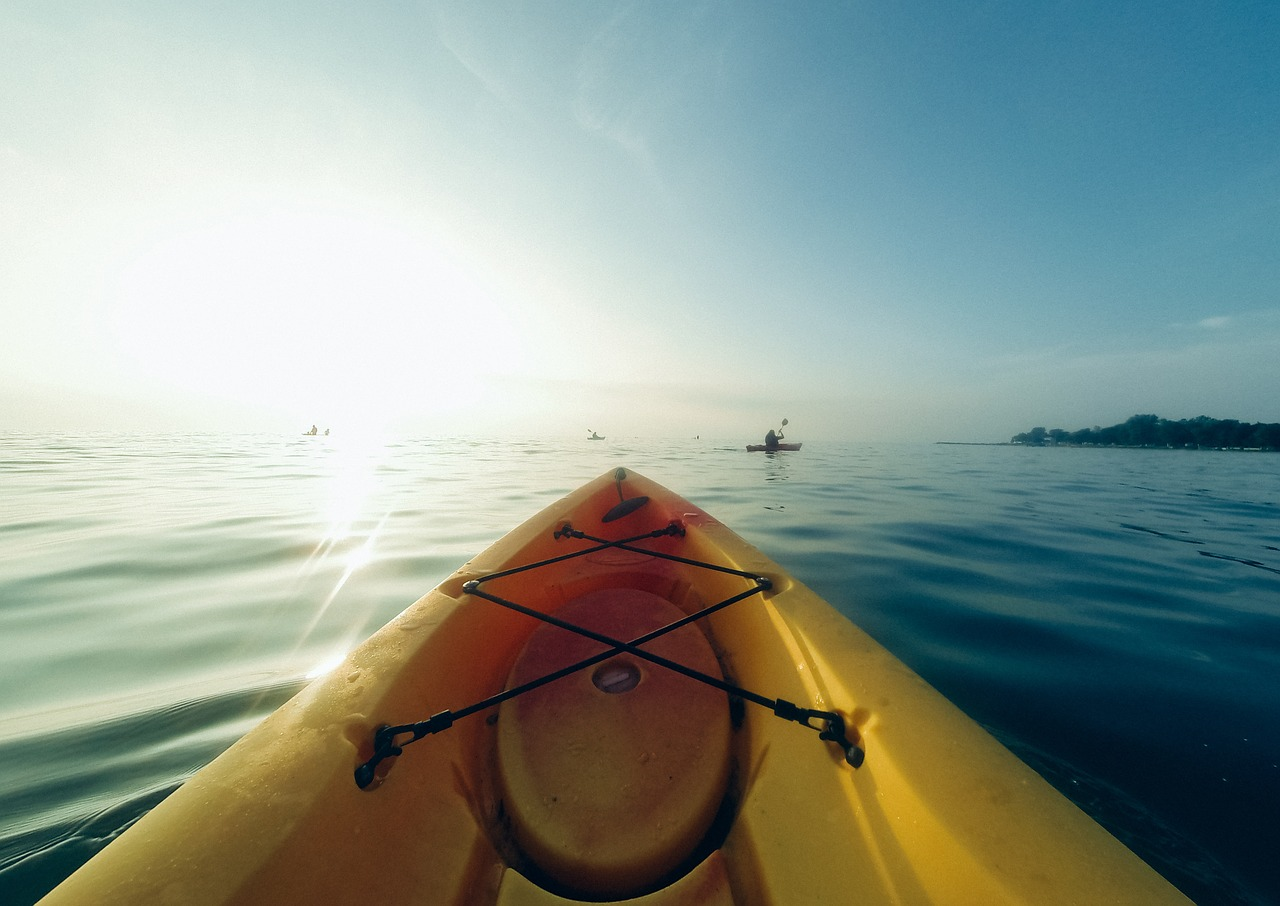kayak: (747, 443, 803, 453)
